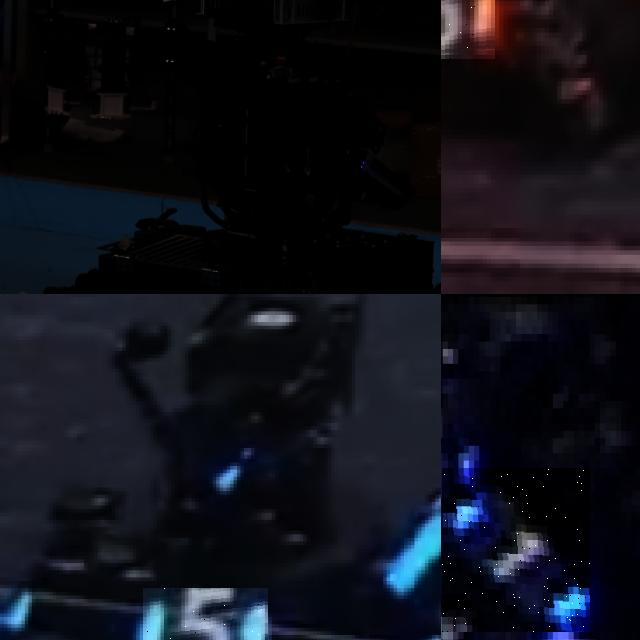B1: (442, 468, 590, 632)
B5: (143, 588, 268, 640)
R5: (441, 0, 495, 59)
